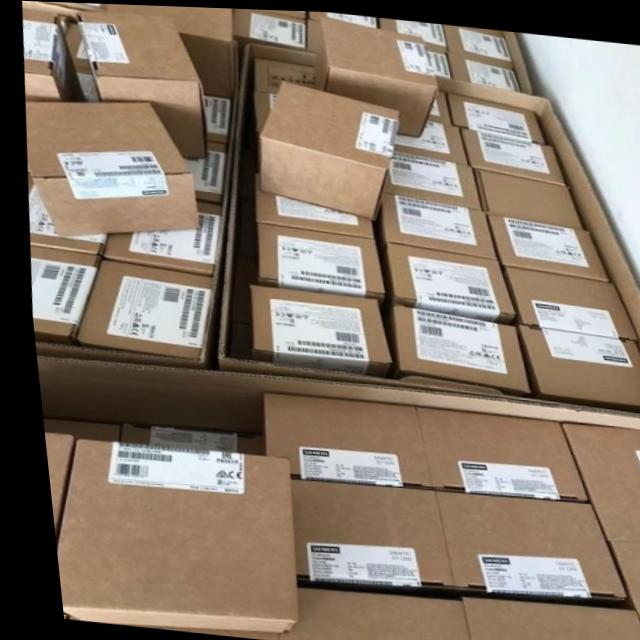box: (45, 438, 282, 633), (23, 99, 197, 236), (424, 485, 613, 604), (281, 473, 446, 591), (258, 78, 398, 216), (76, 11, 205, 160), (251, 392, 422, 485), (410, 404, 579, 496), (313, 15, 435, 134), (70, 256, 208, 357), (244, 282, 386, 374), (110, 3, 238, 96), (388, 302, 524, 387), (267, 584, 458, 640), (513, 319, 640, 403), (382, 240, 510, 321), (555, 421, 640, 539), (252, 220, 379, 297), (501, 263, 631, 335), (94, 200, 217, 275), (449, 593, 635, 640), (484, 210, 605, 277), (377, 190, 493, 256), (249, 171, 369, 234), (25, 244, 95, 344), (470, 165, 580, 224), (24, 175, 104, 255), (457, 123, 564, 182), (382, 148, 478, 208), (22, 10, 83, 104), (443, 88, 543, 138), (599, 538, 640, 640), (390, 115, 466, 161), (447, 46, 524, 89), (234, 7, 305, 48), (441, 21, 514, 57), (251, 53, 320, 91), (377, 14, 446, 46)
